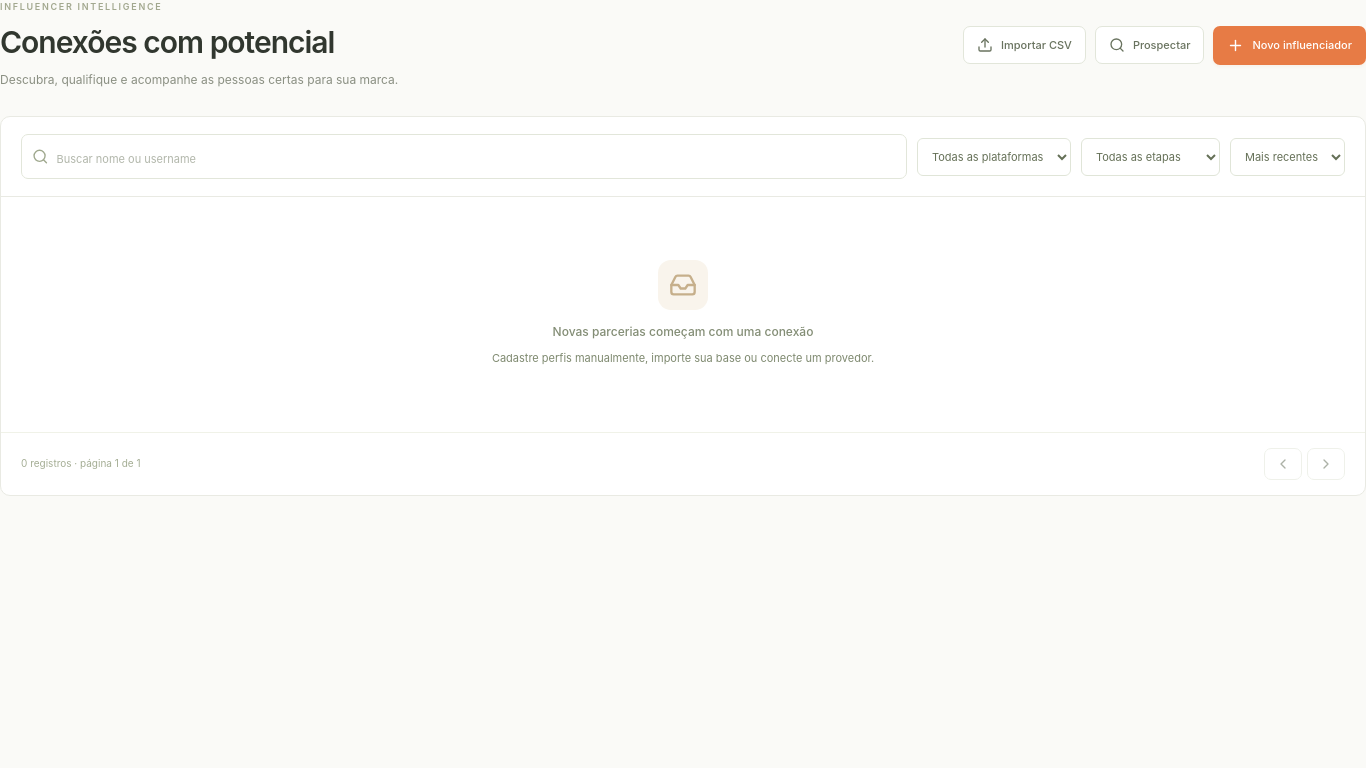
Fluxos principais › mantém tokens de integração fora do fluxo de cadastro
This screenshot has width=1366, height=768.
Click the button "Prospectar".
click(1150, 45)  # box [1095,26,1204,64]
(page scrolled)
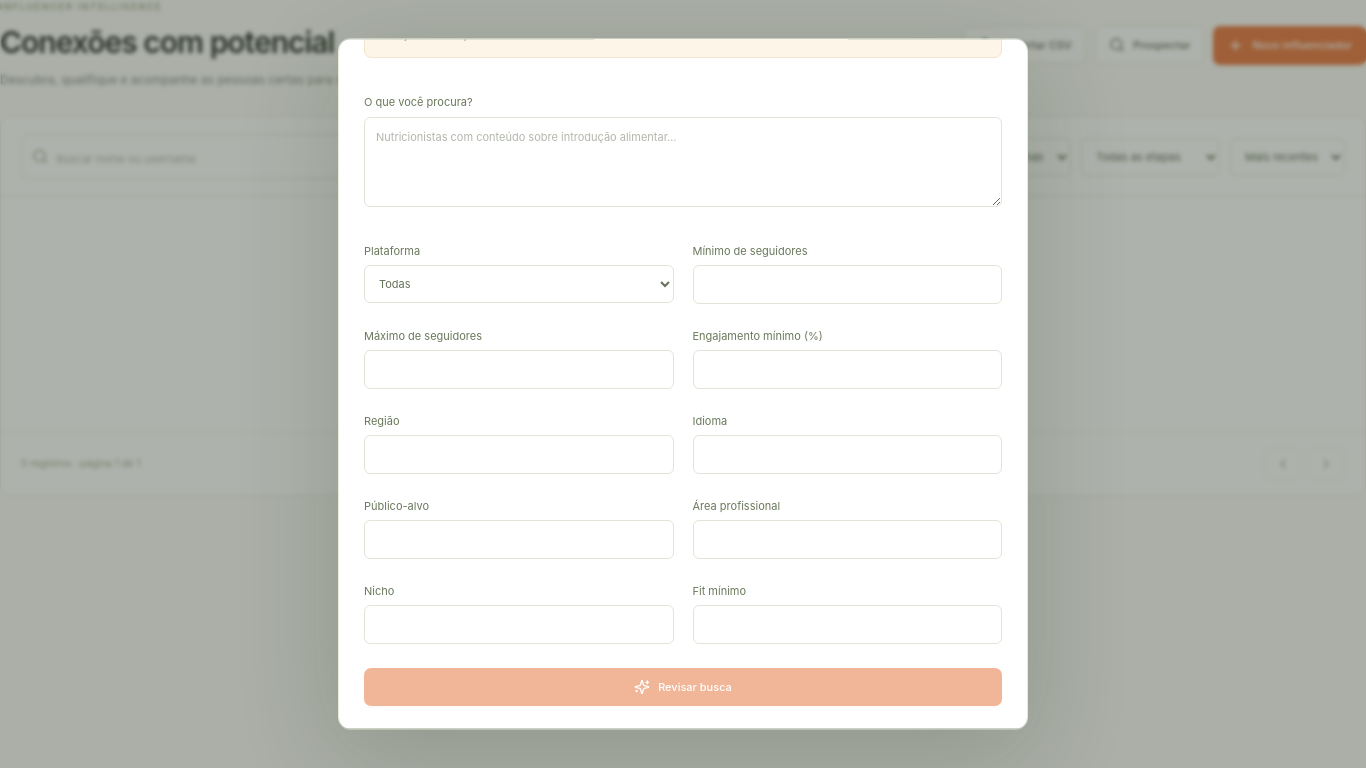
Now the button "Revisar busca" is disabled, box [364,668,1002,707]
